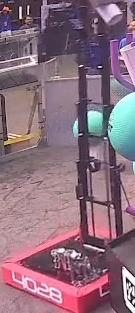red_number: (8, 268, 66, 307)
